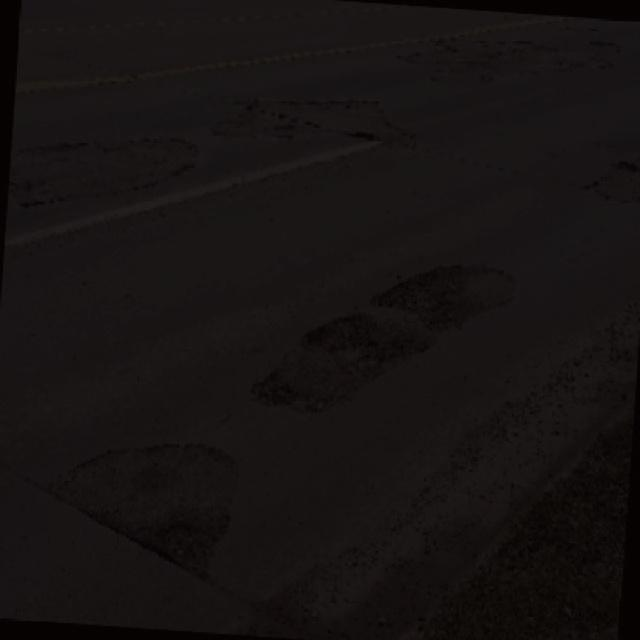Pothole: (251, 239, 534, 419), (28, 435, 254, 581), (11, 136, 213, 224), (199, 84, 427, 154), (417, 30, 640, 94), (579, 152, 640, 210)
